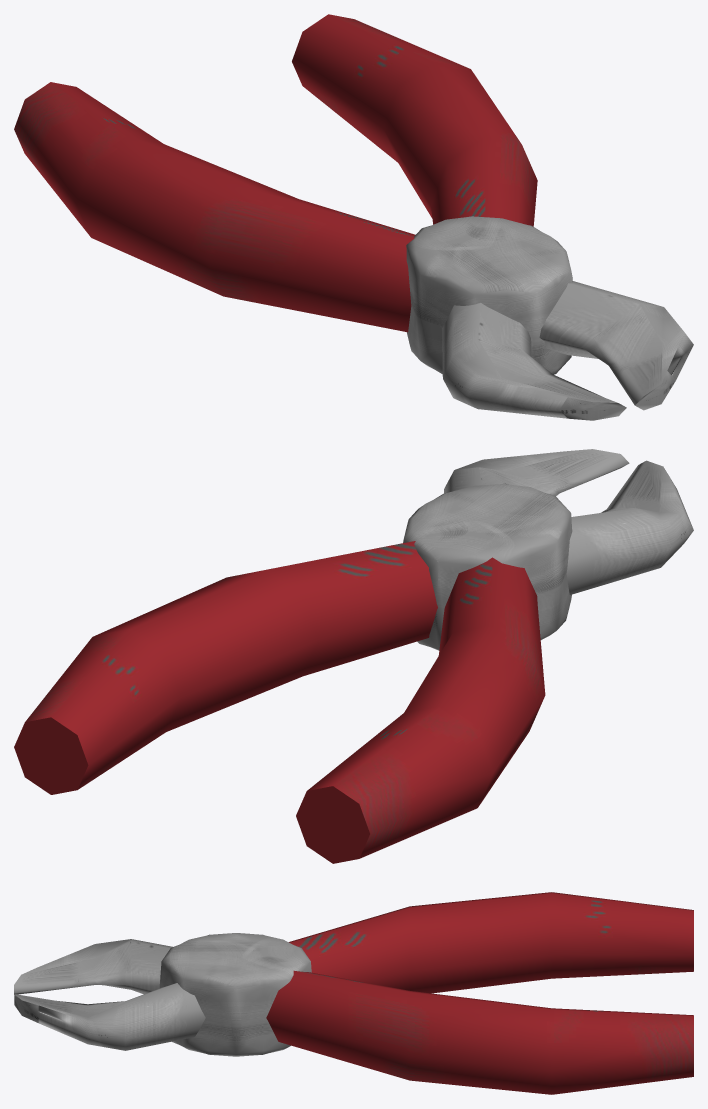
File: Wire Cutter.FBX
The picture shows the model from 3 angles, top to bottom: view 1: azimuth 30°, elevation 25°; view 2: azimuth 150°, elevation 25°; view 3: azimuth 270°, elevation 25°; orthographic projection. The views are drawn at different scales.
Parts seen in each view (by area): view 1: Cylinder001, Cylinder002, Cylinder003; view 2: Cylinder002, Cylinder001, Cylinder003; view 3: Cylinder002, Cylinder001, Cylinder003.
Boxes of the visible parts, x1=… form: Cylinder001: x1=14, y1=82, x2=693, y2=410; Cylinder002: x1=292, y1=14, x2=626, y2=420; Cylinder003: x1=406, y1=216, x2=572, y2=374; Cylinder002: x1=14, y1=460, x2=693, y2=794; Cylinder001: x1=296, y1=449, x2=629, y2=863; Cylinder003: x1=403, y1=483, x2=572, y2=650; Cylinder002: x1=14, y1=939, x2=693, y2=1094; Cylinder001: x1=14, y1=892, x2=693, y2=1050; Cylinder003: x1=159, y1=933, x2=311, y2=1056.
Bounding box in the file's own units: 15.07 × 3.92 × 27.92.
